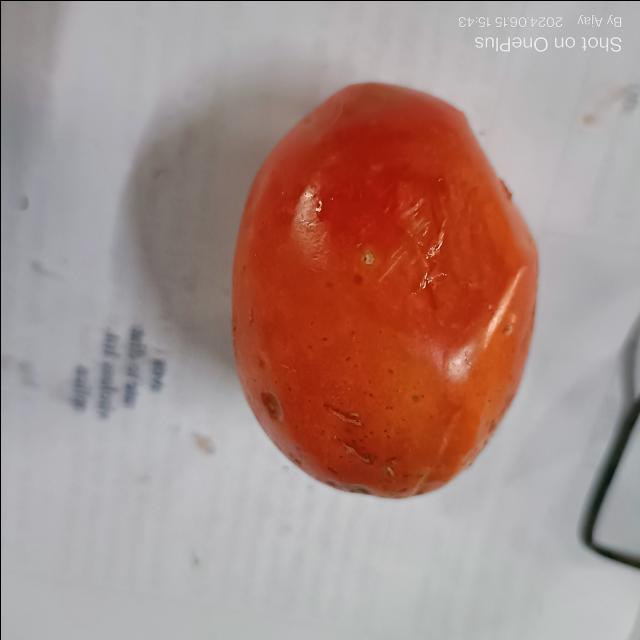Botrytis: (311, 402, 365, 424), (331, 445, 377, 469)
